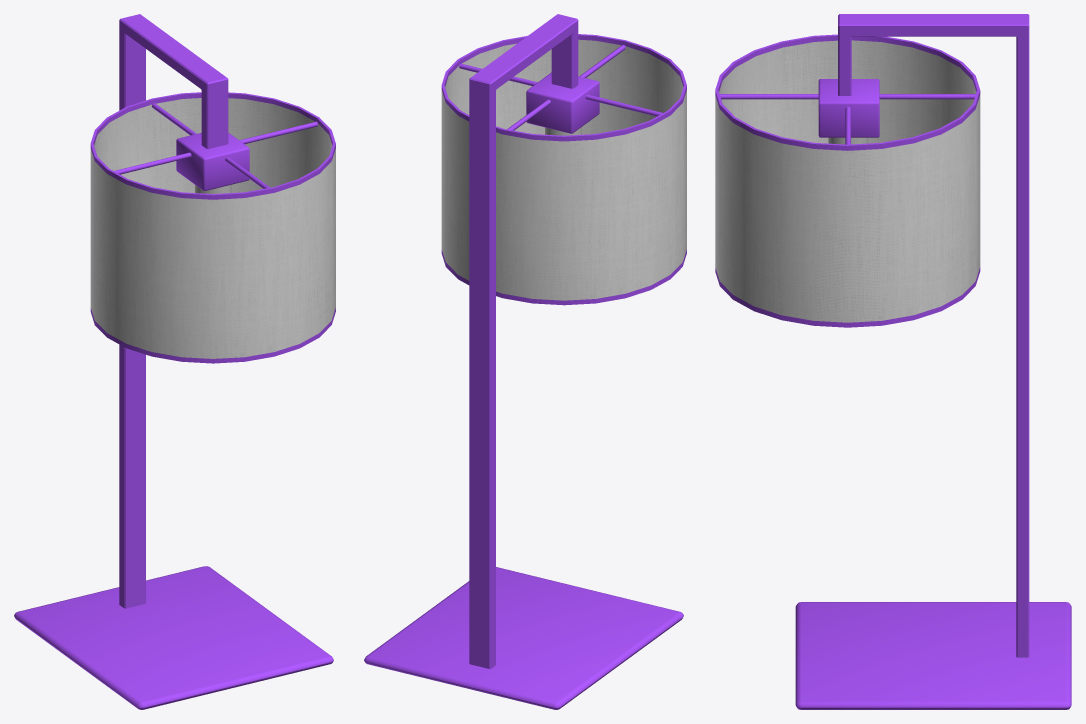
The model's file is LightTable04_1.FBX.
3 views of the same model, side by side, from view 1: azimuth 30°, elevation 25°; view 2: azimuth 150°, elevation 25°; view 3: azimuth 270°, elevation 25° (orthographic). The views are drawn at different scales.
Visible parts, largest first — view 1: LightTable04_1; view 2: LightTable04_1; view 3: LightTable04_1.
Boxes of the visible parts, x1,y1,x2,y2 form: LightTable04_1: [14, 14, 335, 709]; LightTable04_1: [364, 14, 686, 709]; LightTable04_1: [715, 14, 1071, 709].
Size of the model in its own units: 19.5 by 52.05 by 26.24.
